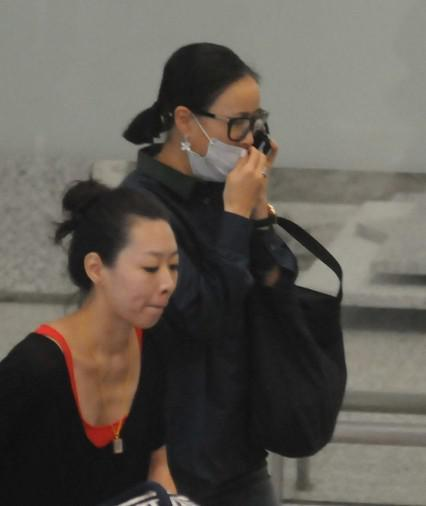NONE: (100, 250, 184, 332)
WRONG: (195, 103, 273, 181)
